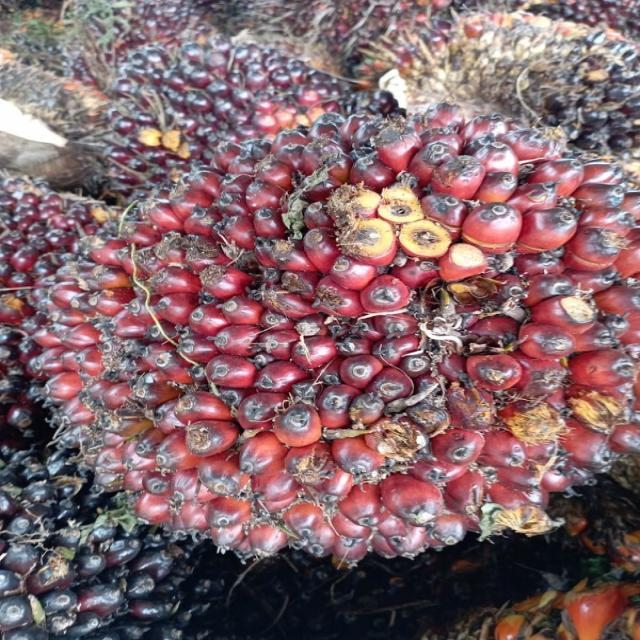fraksi 00: (36, 0, 379, 205)
fraksi 1: (8, 62, 640, 600)
